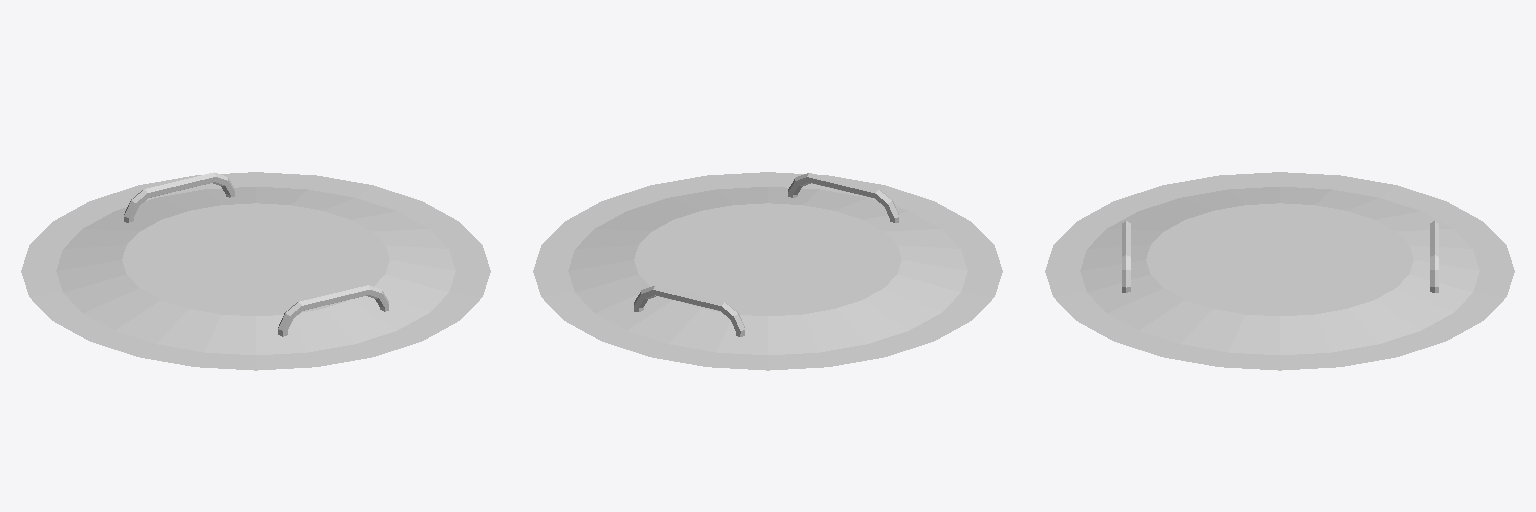
The model's file is Endcap-125m-Crewed.obj.
The picture shows the model from 3 angles: view 1: azimuth 30°, elevation 25°; view 2: azimuth 150°, elevation 25°; view 3: azimuth 270°, elevation 25°; orthographic projection.
Visible parts, largest first — view 1: CapStructure; view 2: CapStructure; view 3: CapStructure.
Boxes of the visible parts, <box> form: CapStructure: <box>21,172,490,370</box>; CapStructure: <box>533,172,1002,370</box>; CapStructure: <box>1045,172,1514,370</box>.
Size of the model in its own units: 21.57 by 1.89 by 21.57.